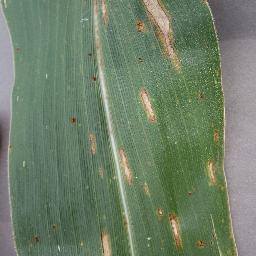Gray_Leaf_Spot: (136, 85, 162, 126), (133, 0, 161, 35), (152, 0, 172, 45), (159, 39, 183, 72), (92, 4, 107, 52), (166, 212, 183, 254), (116, 147, 134, 186), (202, 158, 225, 187), (98, 229, 113, 256), (87, 129, 98, 160), (191, 234, 211, 250), (154, 203, 168, 221), (209, 124, 220, 144), (29, 233, 42, 246), (141, 180, 152, 195), (197, 87, 206, 103), (68, 114, 79, 126), (134, 54, 148, 63), (10, 46, 23, 55), (91, 74, 99, 85)
